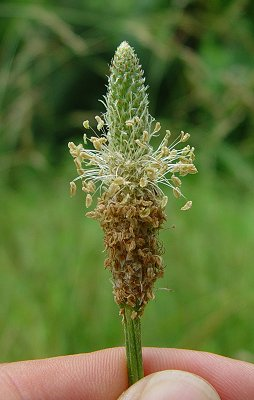buckhorn plantain: (70, 31, 194, 370)
